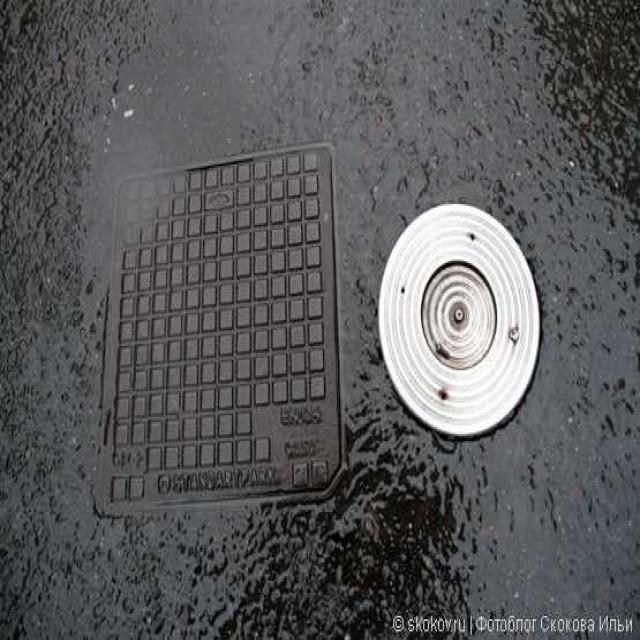manhole: (92, 144, 346, 528), (377, 204, 542, 443)
